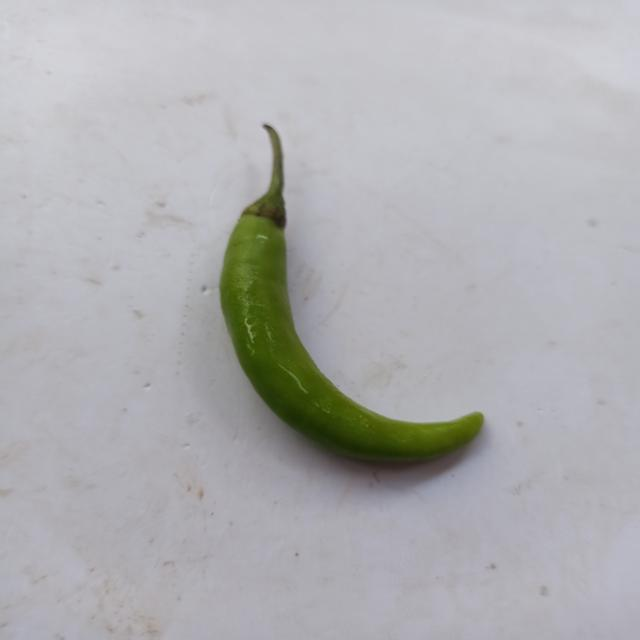Green Chilly: (220, 124, 484, 461)
